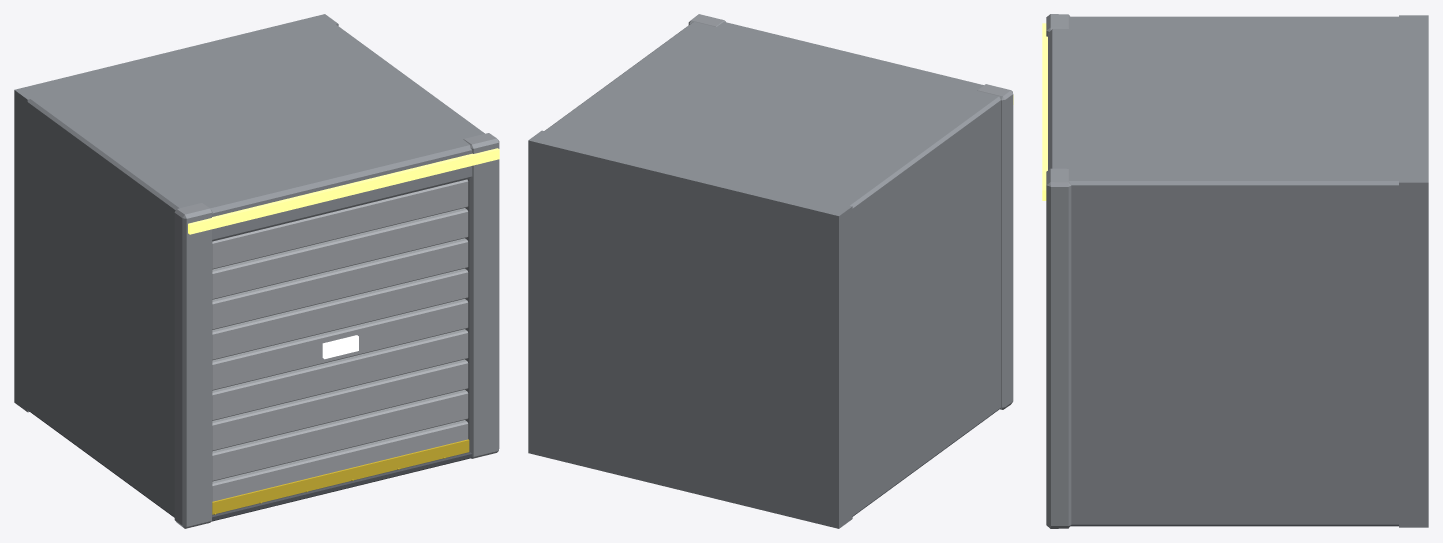
File: rb_station_eggbot.glb
3 renders of one model, left to right at view 1: azimuth 30°, elevation 25°; view 2: azimuth 150°, elevation 25°; view 3: azimuth 270°, elevation 25°, orthographic. The views are drawn at different scales.
Visible parts, largest first — view 1: rb_station_eggbot, shutter; view 2: rb_station_eggbot; view 3: rb_station_eggbot.
Boxes of the visible parts, x1,y1,x2,y2 form: rb_station_eggbot: (14, 14, 499, 528); shutter: (212, 179, 469, 514); rb_station_eggbot: (528, 14, 1013, 528); rb_station_eggbot: (1042, 14, 1428, 528).
Size of the model in its own units: 2.76 by 2.62 by 2.64.
